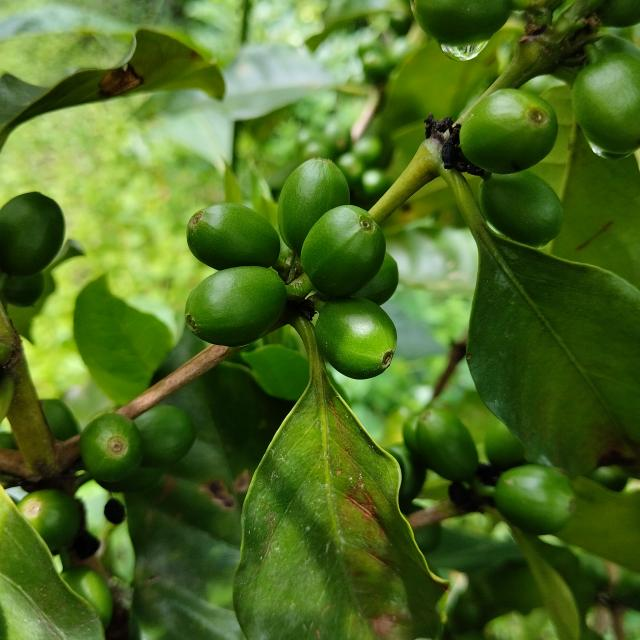green: (460, 88, 559, 174), (185, 266, 287, 347), (301, 205, 386, 297), (278, 158, 350, 256), (315, 297, 397, 380), (479, 170, 564, 247), (186, 202, 281, 270), (79, 413, 143, 483), (134, 406, 195, 468), (352, 252, 399, 305)
